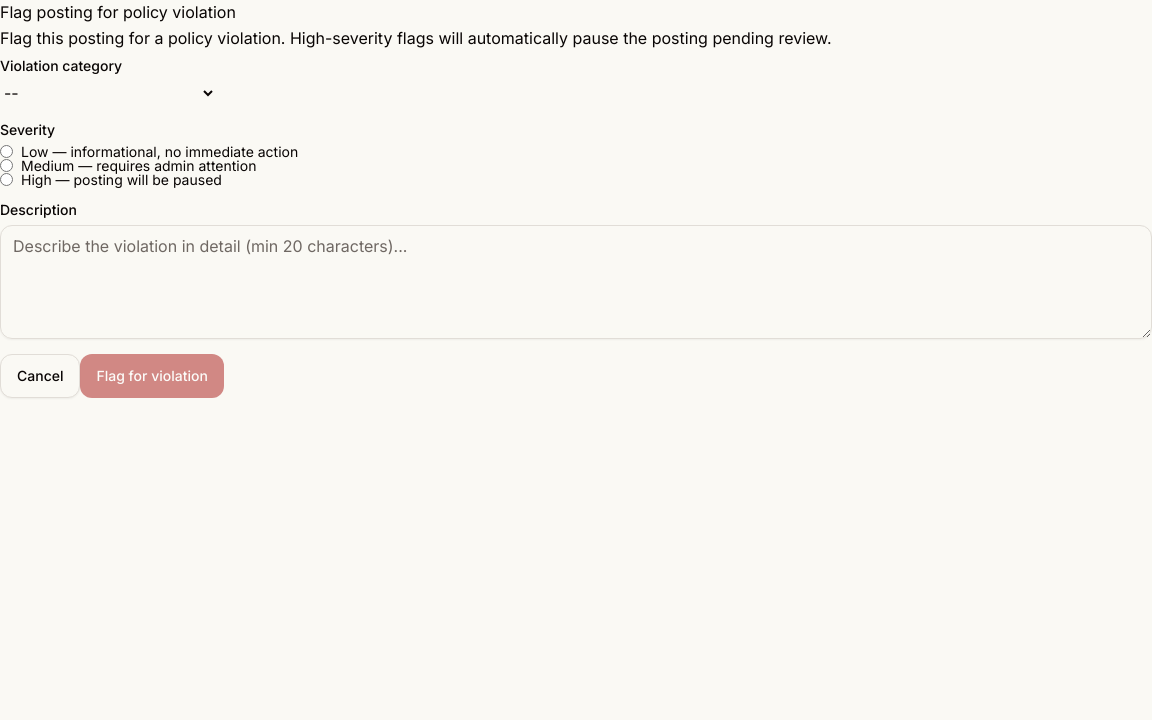
Scenario: FlagPostingModal › proceed button enabled after all fields filled
Select "Other" in the dropdown with test id "flag-category-select" at (108, 93), box [0,82,216,104]
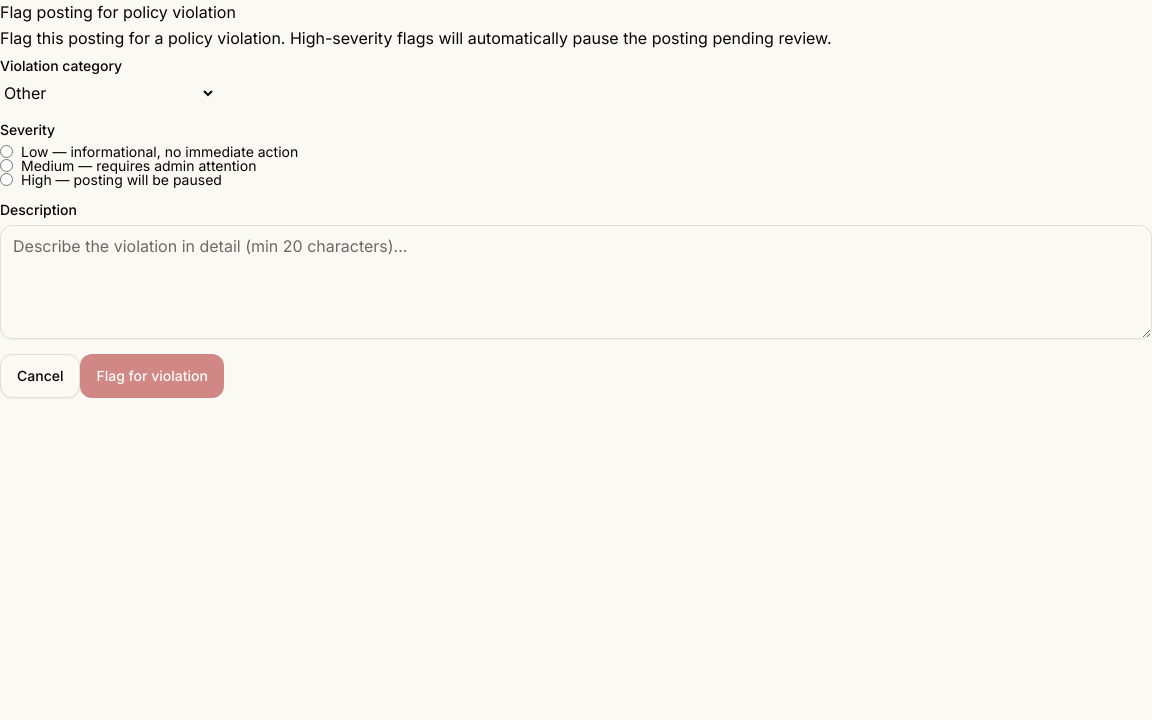
Click the radio button labelled "Low — informational, no immediate action" at (6, 152), box [0,145,13,158]
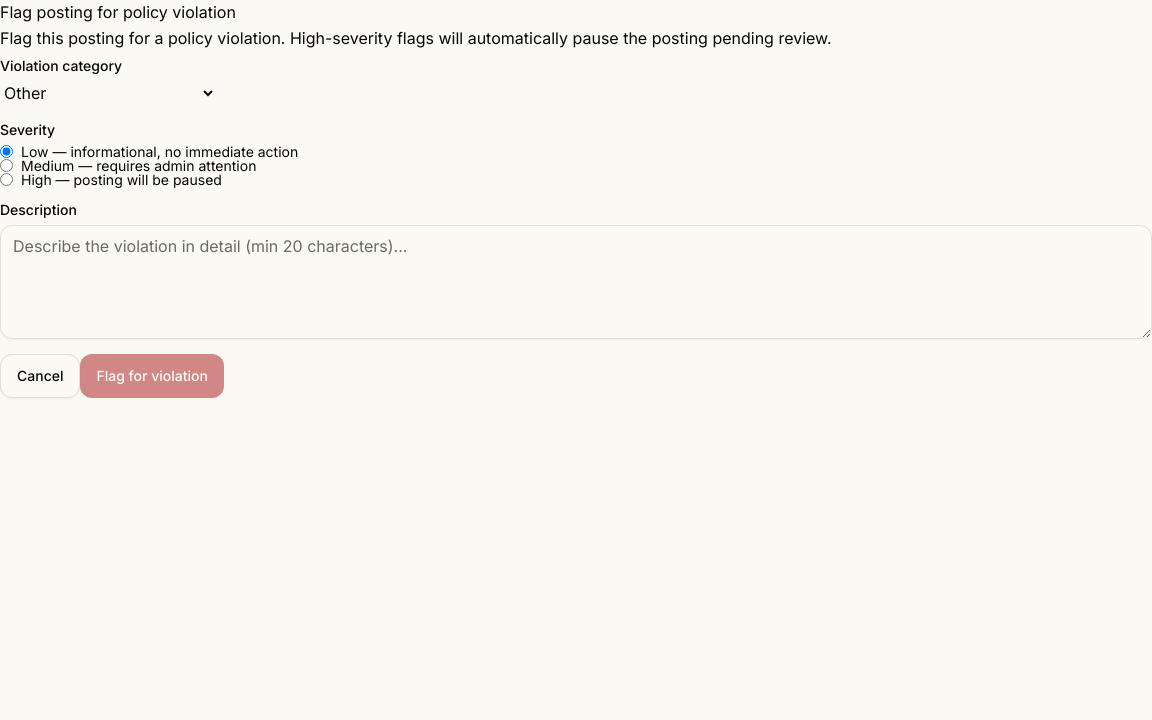
Type "This posting contains misleading information about the role." into the text box with test id "flag-description-textarea" at (576, 282), box [0,225,1151,339]
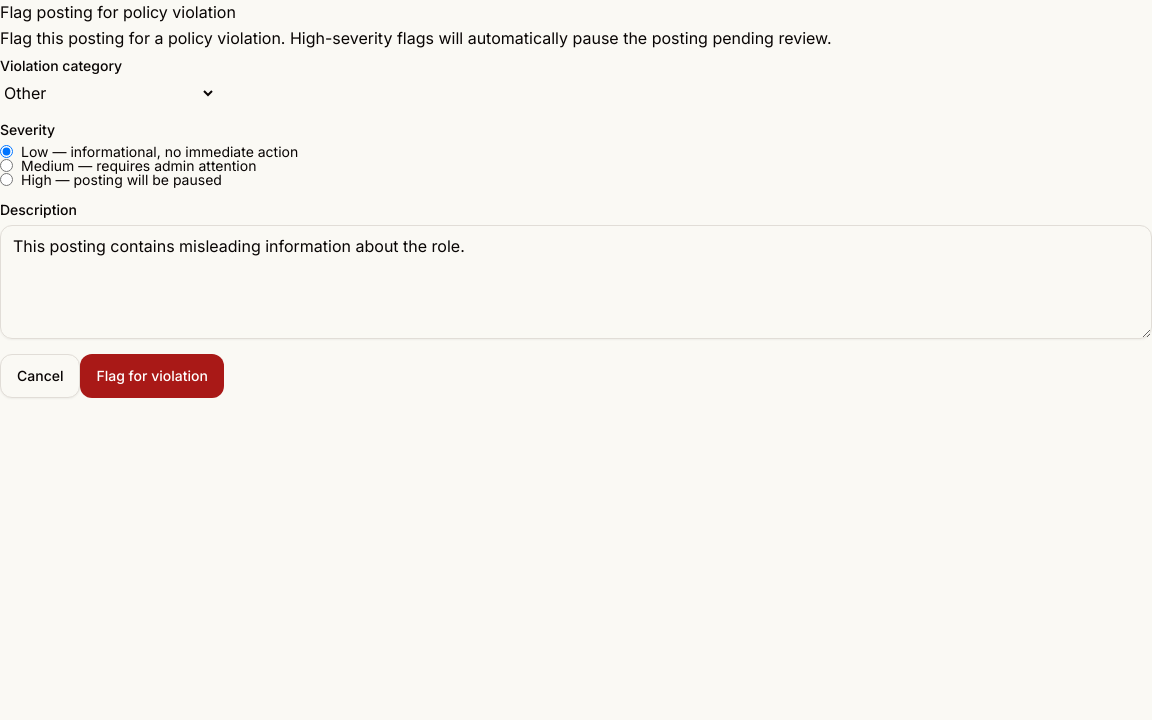
Expected: the button with test id "flag-proceed-button" is enabled, [80,354,224,398]
